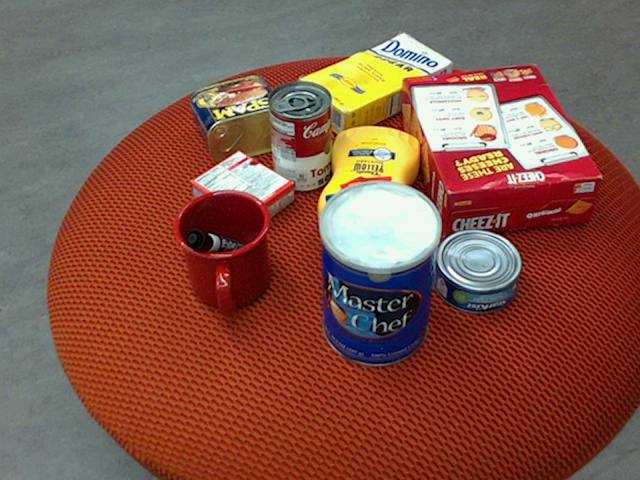cracker_box: (400, 63, 601, 235)
gelatin_box: (188, 149, 292, 235)
large_marker: (185, 230, 255, 262)
master_chef_can: (318, 183, 439, 367)
mug: (170, 190, 271, 315)
mustard_bottle: (317, 125, 420, 272)
potted_meat_can: (191, 74, 295, 162)
sugar_box: (297, 32, 452, 137)
tomato_soup_can: (268, 79, 332, 190)
tuna_fish_can: (433, 228, 522, 313)
